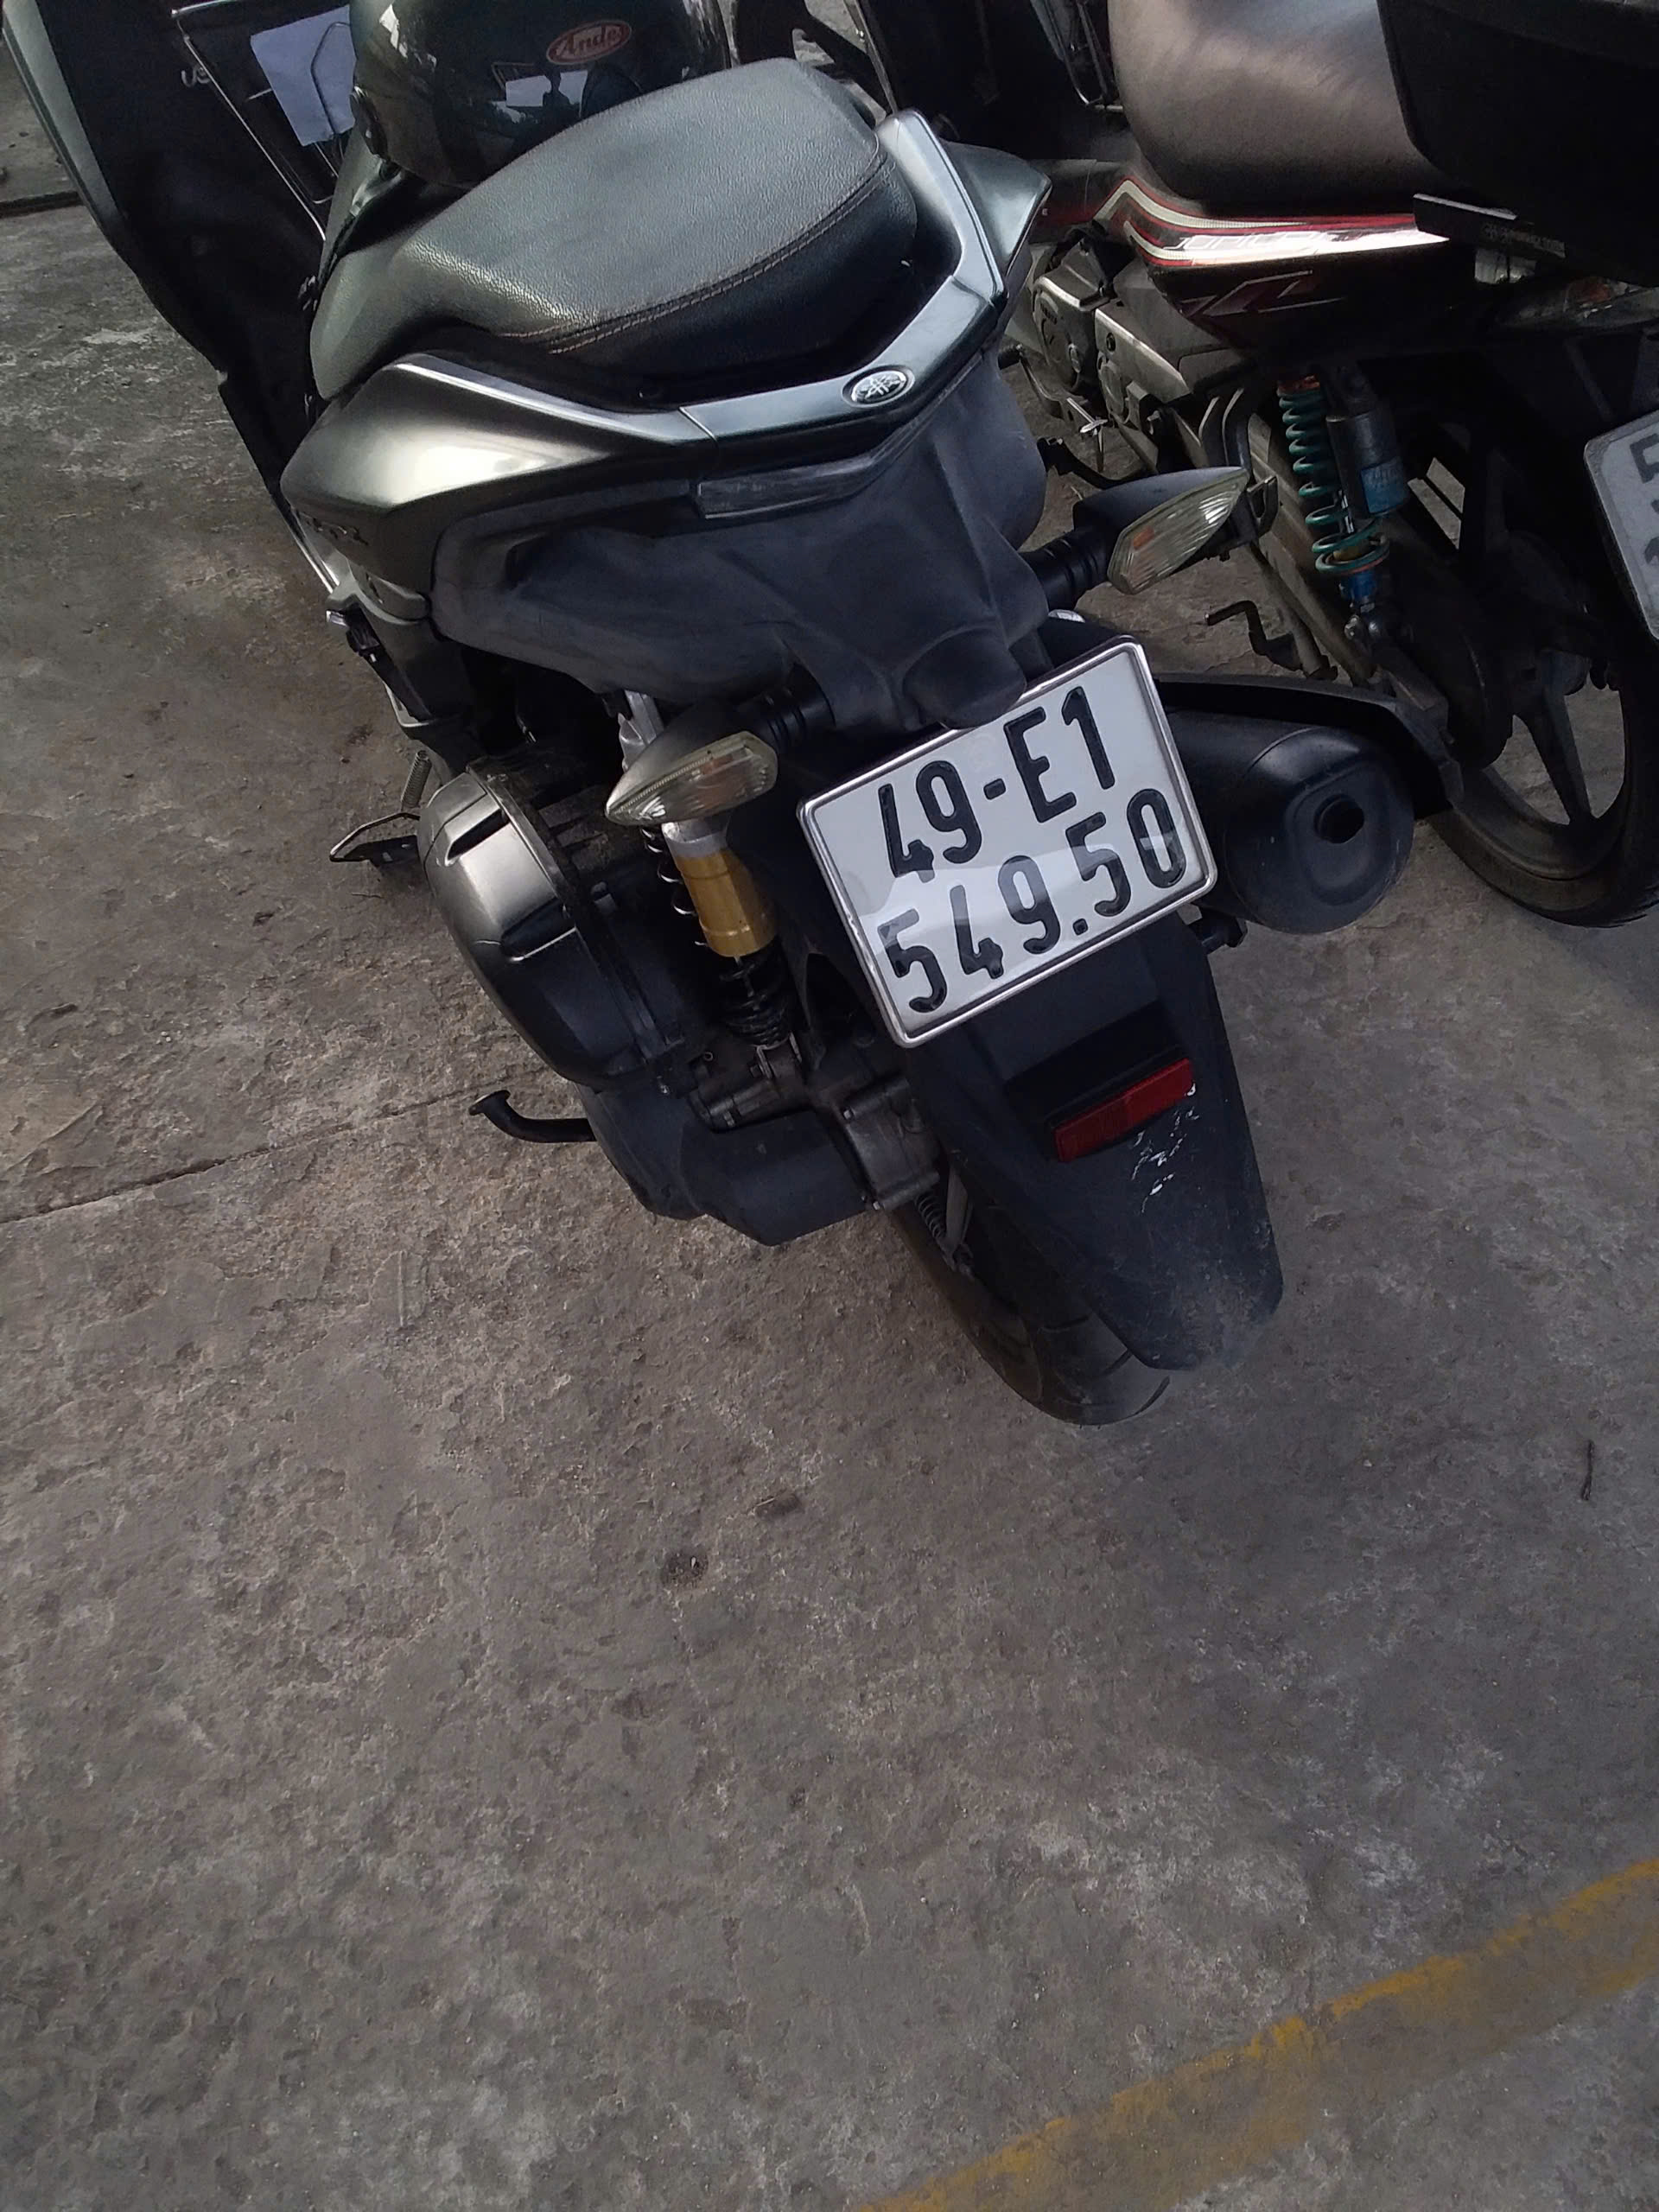bien_so: (804, 645, 1215, 1039)
